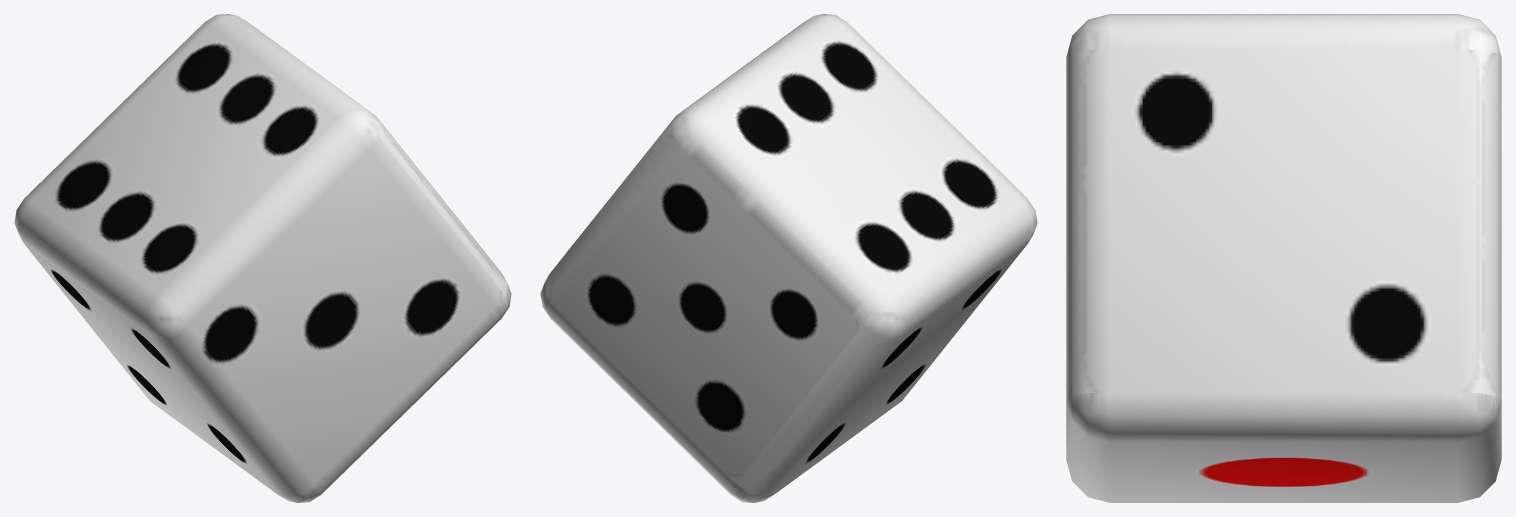
The model's file is 骰子飛.FBX.
3 renders of one model, left to right at view 1: azimuth 30°, elevation 25°; view 2: azimuth 150°, elevation 25°; view 3: azimuth 270°, elevation 25°, orthographic. The views are drawn at different scales.
Visible parts, largest first — view 1: ChamferBox001; view 2: ChamferBox001; view 3: ChamferBox001.
Part boxes in pixels (box(x1,y1,x2,y2)): ChamferBox001: box(14, 14, 511, 502); ChamferBox001: box(540, 14, 1037, 502); ChamferBox001: box(1066, 14, 1501, 502).
Bounding box in the file's own units: 3.29 × 3.29 × 2.5.
Materials: 1 (1 with a texture image).
